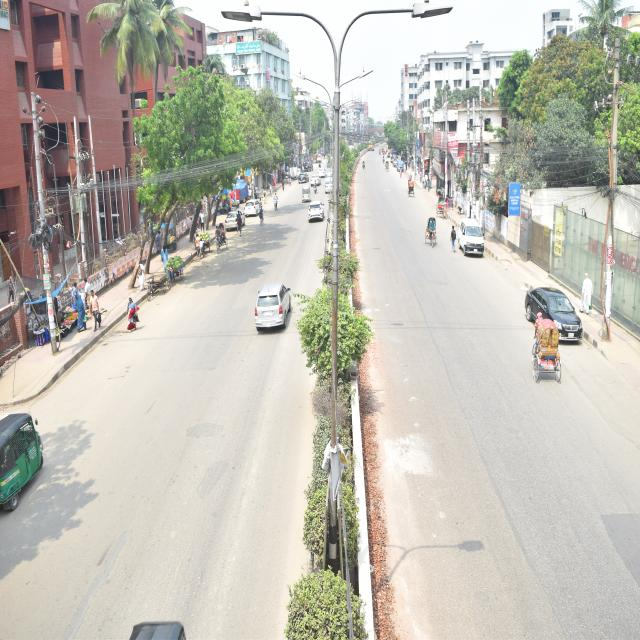car: (522, 281, 582, 338), (259, 287, 300, 360), (221, 196, 250, 243), (461, 217, 491, 259), (244, 183, 268, 220), (309, 190, 326, 217)
